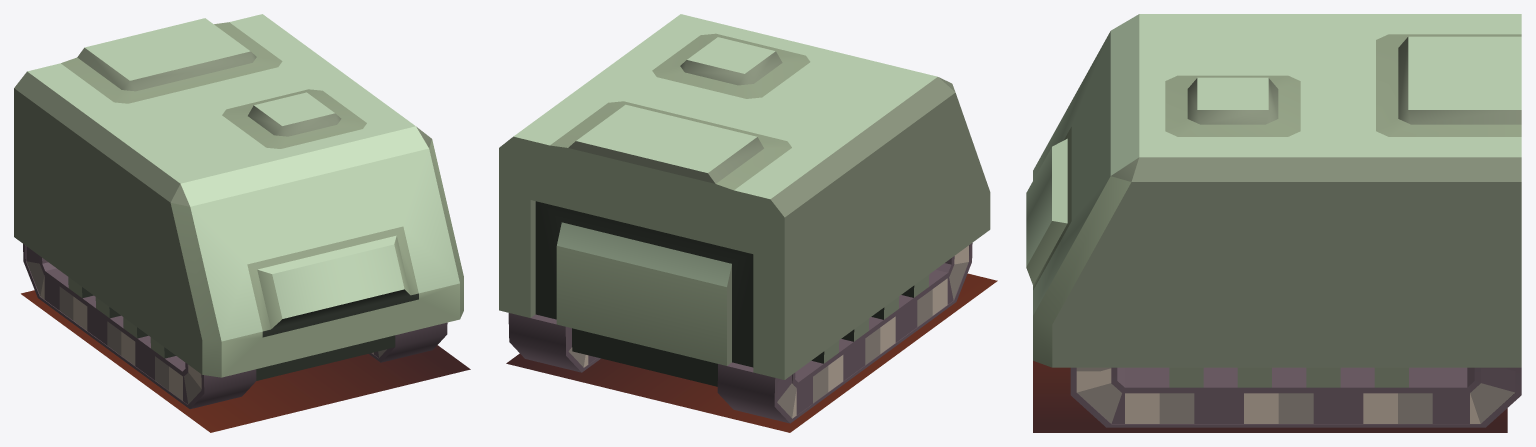
File: APCMesh.JadeSun.glb
The picture shows the model from 3 angles, left to right: view 1: azimuth 30°, elevation 25°; view 2: azimuth 150°, elevation 25°; view 3: azimuth 270°, elevation 25°; orthographic projection. The views are drawn at different scales.
Visible parts, largest first — view 1: APCMesh.JadeSun; view 2: APCMesh.JadeSun; view 3: APCMesh.JadeSun.
Part boxes in pixels (x1=…): APCMesh.JadeSun: x1=14, y1=14, x2=470, y2=432; APCMesh.JadeSun: x1=499, y1=14, x2=997, y2=432; APCMesh.JadeSun: x1=1026, y1=14, x2=1521, y2=432.
Size of the model in its own units: 1.51 by 1.25 by 1.98.
1 material, 1 textured.
